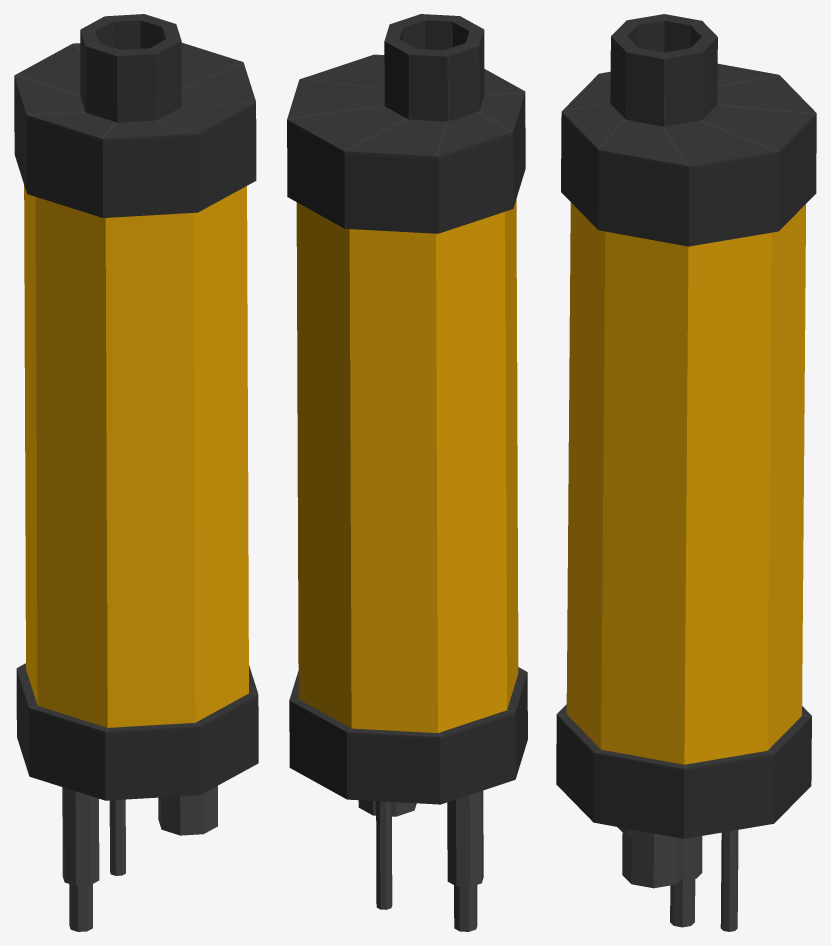
File: InjectionCartridge.fbx
3 views of the same model, side by side, from view 1: azimuth 30°, elevation 25°; view 2: azimuth 150°, elevation 25°; view 3: azimuth 270°, elevation 25° (orthographic). The views are drawn at different scales.
Parts seen in each view (by area): view 1: Cartridge; view 2: Cartridge; view 3: Cartridge.
Part boxes in pixels (x1,y1,x2,y2): Cartridge: (14,14,258,931); Cartridge: (287,14,527,931); Cartridge: (556,14,816,931).
Bounding box in the file's own units: 67.14 × 263 × 68.55.
